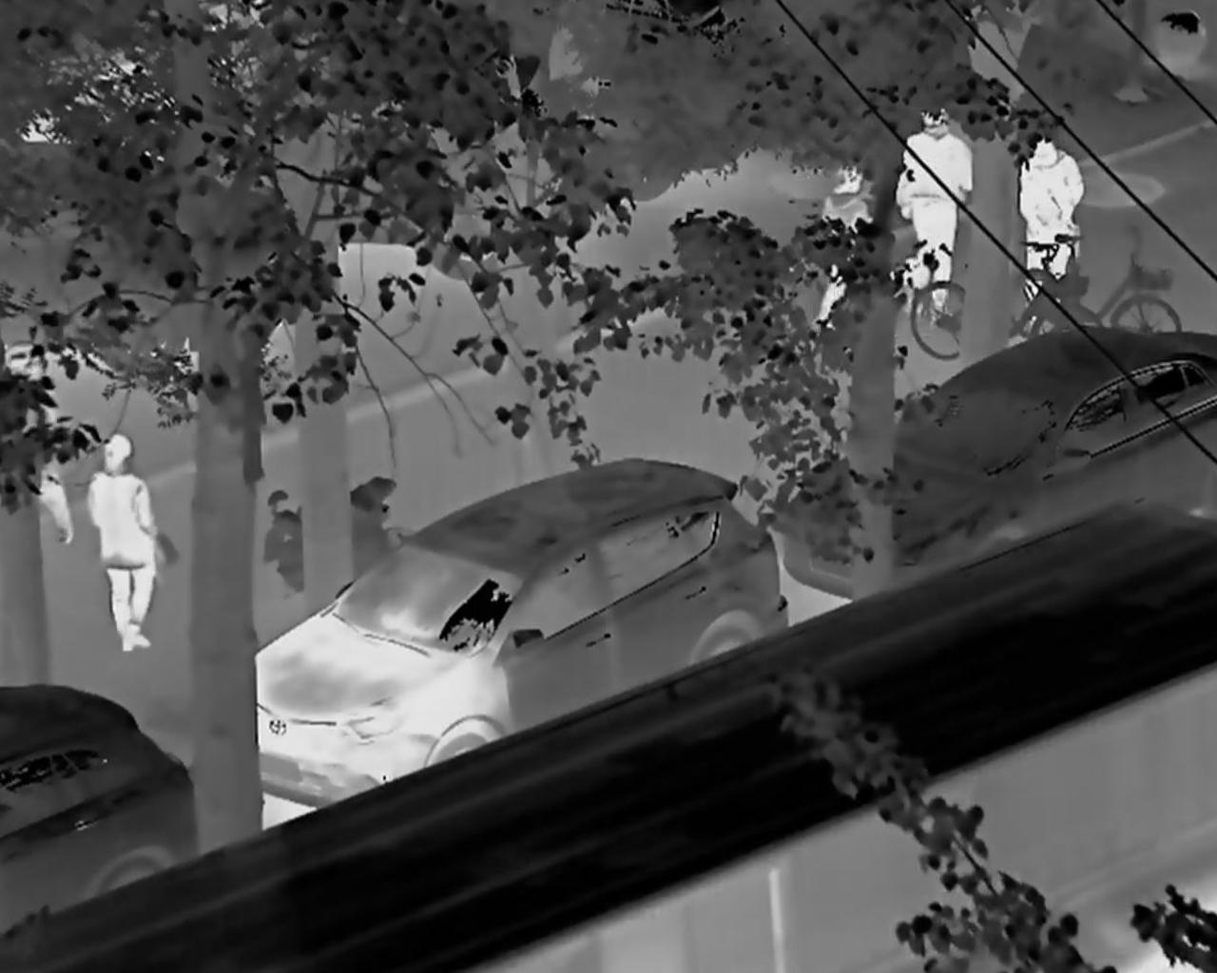person: (86, 428, 177, 664), (898, 100, 976, 315), (1014, 133, 1089, 309)
